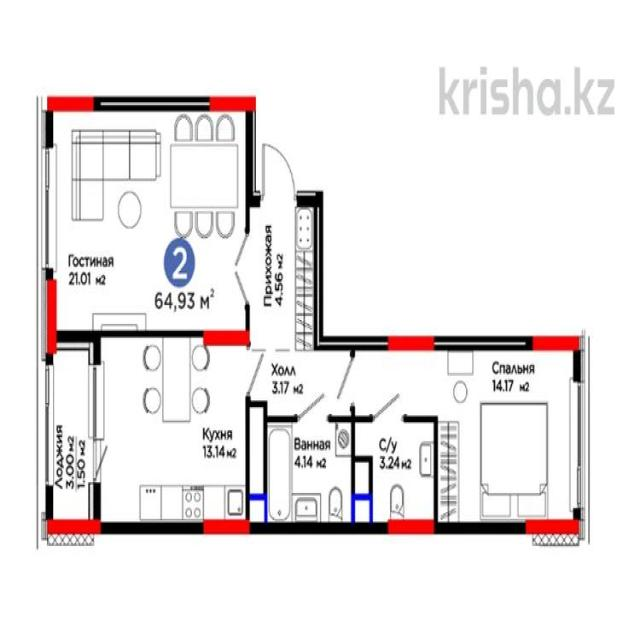balcony: (46, 339, 94, 525)
bathroom: (267, 420, 352, 525), (357, 422, 434, 527)
hallway: (252, 355, 436, 414), (250, 207, 311, 347)
kitchen: (99, 339, 248, 529)
living_room: (46, 106, 247, 332), (439, 351, 576, 527)
